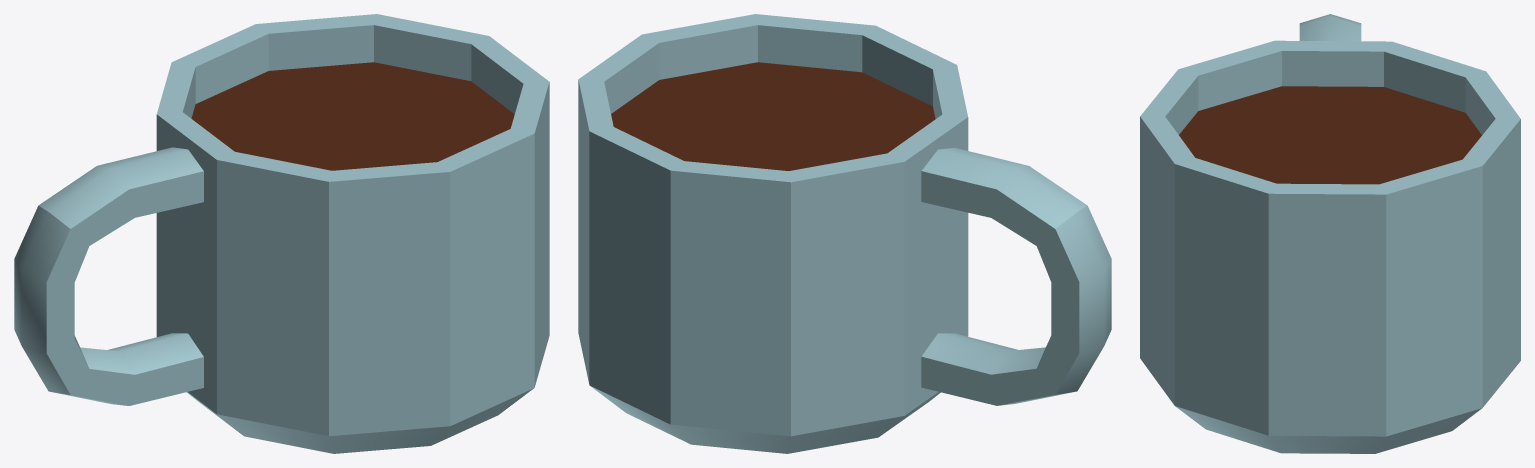
File: PW_cup01.fbx
3 renders of one model, left to right at view 1: azimuth 30°, elevation 25°; view 2: azimuth 150°, elevation 25°; view 3: azimuth 270°, elevation 25°, orthographic. The views are drawn at different scales.
Parts seen in each view (by area): view 1: cup, coffee; view 2: cup, coffee; view 3: cup, coffee.
Boxes of the visible parts, x1=… form: cup: x1=14, y1=14, x2=549, y2=453; coffee: x1=191, y1=62, x2=514, y2=170; cup: x1=578, y1=14, x2=1111, y2=453; coffee: x1=611, y1=62, x2=935, y2=170; cup: x1=1140, y1=14, x2=1520, y2=453; coffee: x1=1179, y1=86, x2=1481, y2=184.
Size of the model in its own units: 44.97 by 24.97 by 31.36.
Materials: 1 (1 with a texture image).
